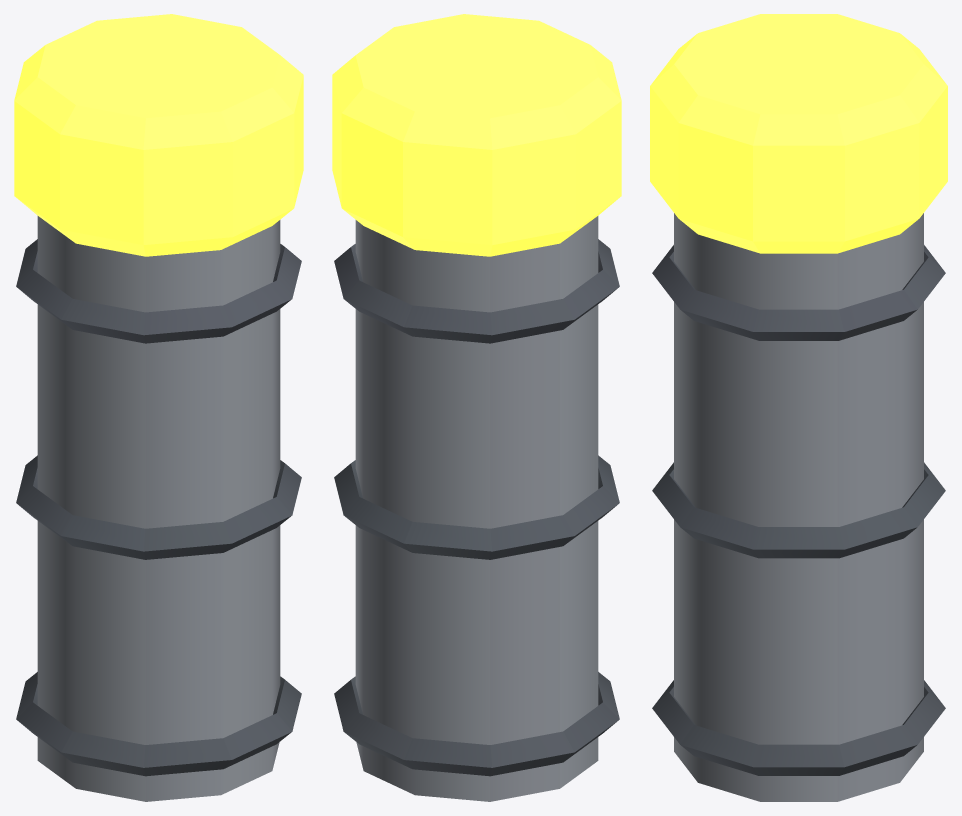
Rendered from core_sample.glb.
3 views of the same model, side by side, from view 1: azimuth 30°, elevation 25°; view 2: azimuth 150°, elevation 25°; view 3: azimuth 270°, elevation 25° (orthographic).
Visible parts, largest first — view 1: core_body, core_cap; view 2: core_body, core_cap; view 3: core_body, core_cap.
Part boxes in pixels (<box>): core_body: <box>16,216,301,801</box>; core_cap: <box>14,14,303,256</box>; core_body: <box>334,216,619,801</box>; core_cap: <box>332,14,621,256</box>; core_body: <box>652,213,945,801</box>; core_cap: <box>650,14,947,253</box>.
Bounding box in the file's own units: 0.2948 × 0.79 × 0.31.
